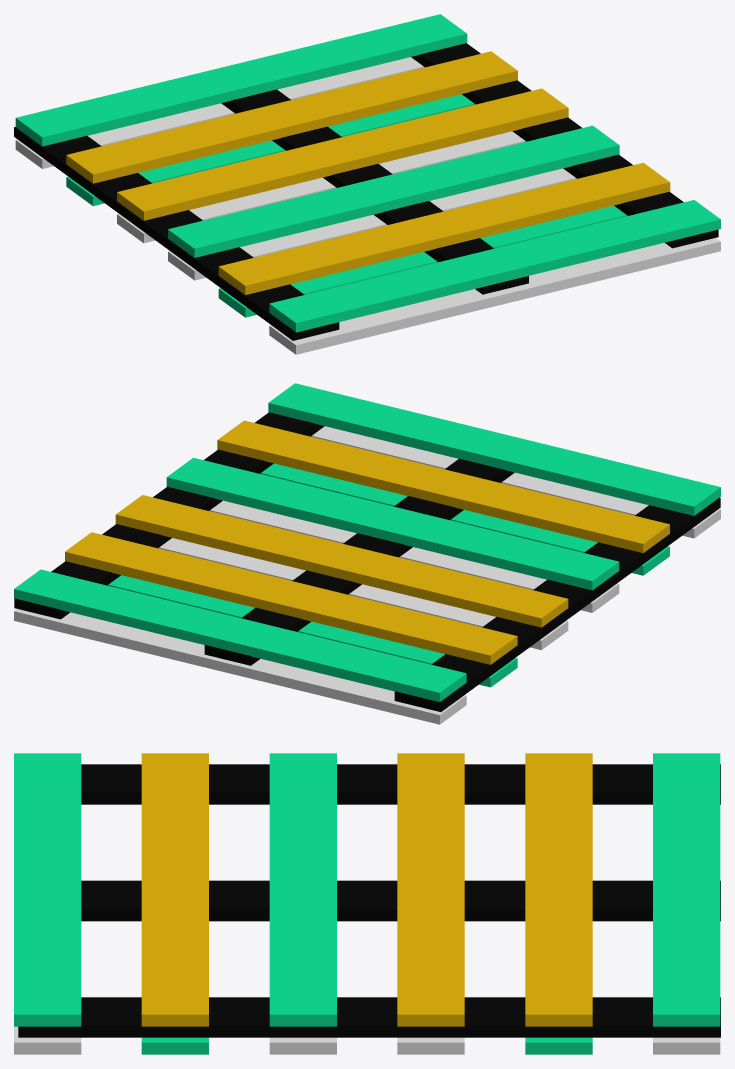
Rendered from palette.fbx.
3 renders of one model, top to bottom at view 1: azimuth 30°, elevation 25°; view 2: azimuth 150°, elevation 25°; view 3: azimuth 270°, elevation 25°, orthographic. The views are drawn at different scales.
Visible parts, largest first — view 1: Plane.003, Plane.001, Plane.004, Plane.008, Plane.009, Plane.007, Plane.015, Plane.017, Plane.018, Plane.019, Plane.014, Plane.013 (+3 smaller); view 2: Plane.007, Plane.008, Plane.003, Plane.009, Plane.001, Plane.004, Plane.014, Plane.017, Plane.019, Plane.018, Plane.011, Plane.012 (+3 smaller); view 3: Plane.001, Plane.003, Plane.004, Plane.007, Plane.008, Plane.009, Plane.019, Plane.018, Plane.017, Plane.015, Plane.013, Plane.012 (+3 smaller).
Boxes of the visible parts, x1,y1,x2,y2 form: Plane.003: (269,200,720,332); Plane.001: (15,14,467,146); Plane.004: (218,162,670,294); Plane.008: (117,88,568,220); Plane.009: (66,51,517,183); Plane.007: (168,125,619,257); Plane.015: (269,238,720,354); Plane.017: (14,127,339,340); Plane.018: (221,89,528,294); Plane.019: (411,43,718,248); Plane.014: (15,57,424,168); Plane.013: (66,94,475,206); Plane.007: (166,457,619,590); Plane.008: (115,495,568,627); Plane.003: (268,383,720,515); Plane.009: (65,532,517,664); Plane.001: (14,569,466,701); Plane.004: (217,420,669,552); Plane.014: (14,609,466,724); Plane.017: (394,497,720,711); Plane.019: (14,412,324,619); Plane.018: (204,458,514,665); Plane.011: (209,500,619,612); Plane.012: (158,538,568,650); Plane.001: (653,753,720,1026); Plane.003: (14,753,81,1026); Plane.004: (141,753,208,1026); Plane.007: (269,753,336,1026); Plane.008: (397,753,464,1026); Plane.009: (525,753,592,1026); Plane.019: (18,997,720,1037); Plane.018: (81,880,720,921); Plane.017: (81,764,720,804); Plane.015: (14,1026,81,1054); Plane.013: (525,1037,592,1054); Plane.012: (397,1037,464,1054).
Size of the model in its own units: 93.44 by 6.66 by 107.
